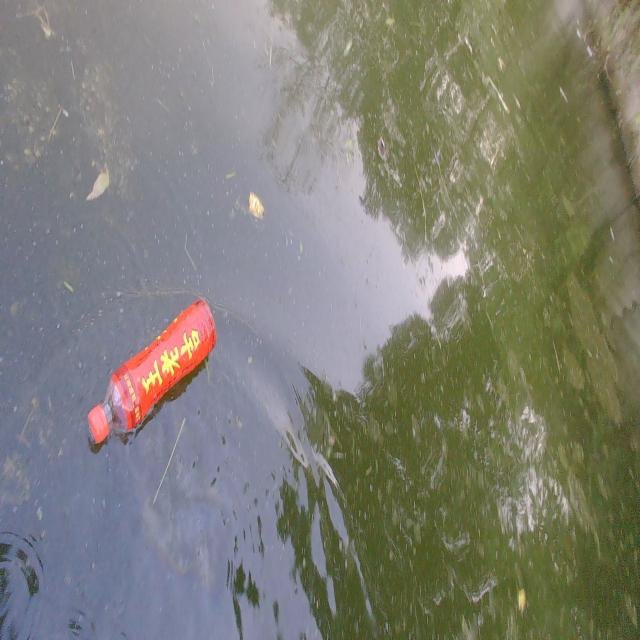Bottle: (86, 291, 218, 444)
